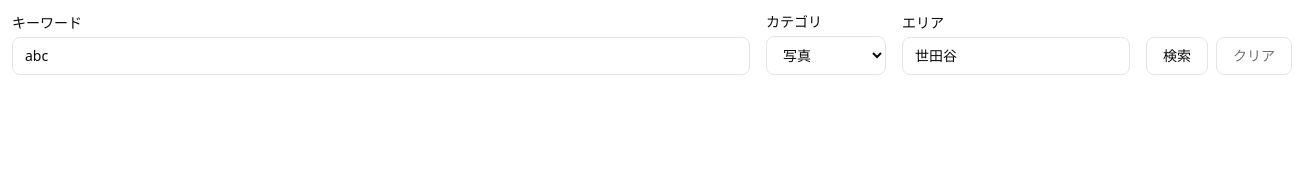
it: SkillSearchForm › reset clears inputs (DOM変化) and navigates to '/' (送信制御)
Check: the field labelled "キーワード" holds "abc", box [12,37,750,75]
Check: the dropdown labelled "カテゴリ" shows "写真", box [766,36,886,75]
Click the button "クリア".
click(1254, 56)  # box [1216,37,1292,75]
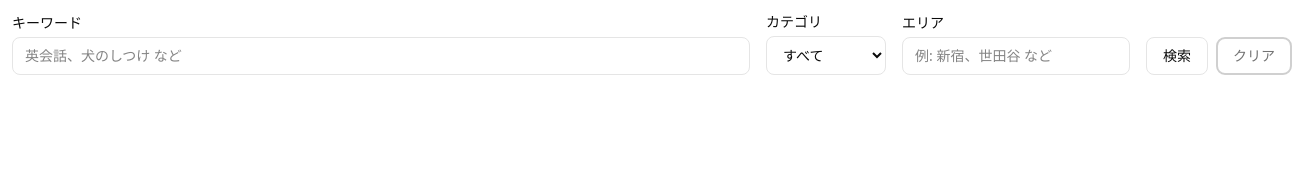
Check: the field labelled "キーワード" is empty, box [12,37,750,75]
Check: the dropdown labelled "カテゴリ" shows "すべて", box [766,36,886,75]
Check: the field labelled "エリア" is empty, box [902,37,1130,75]
